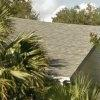Palm tree: (1, 20, 51, 99)
